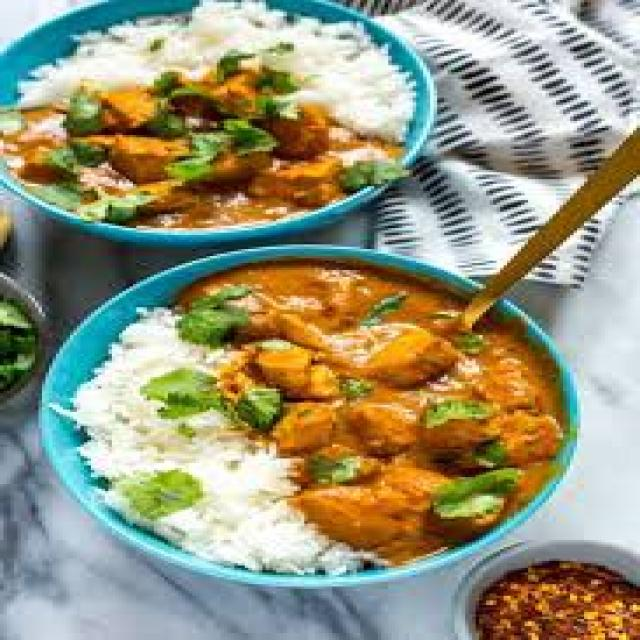Chicken Tikka: (189, 256, 572, 560), (0, 70, 410, 231)
